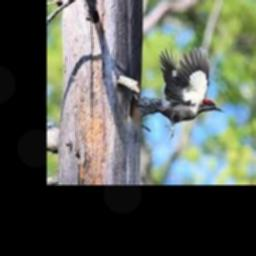Woodpecker: (136, 47, 226, 139)
